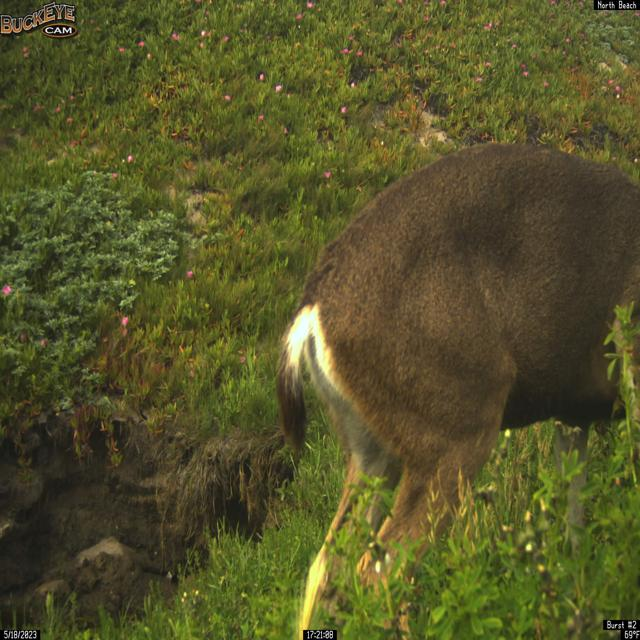deer: (274, 142, 640, 639)
